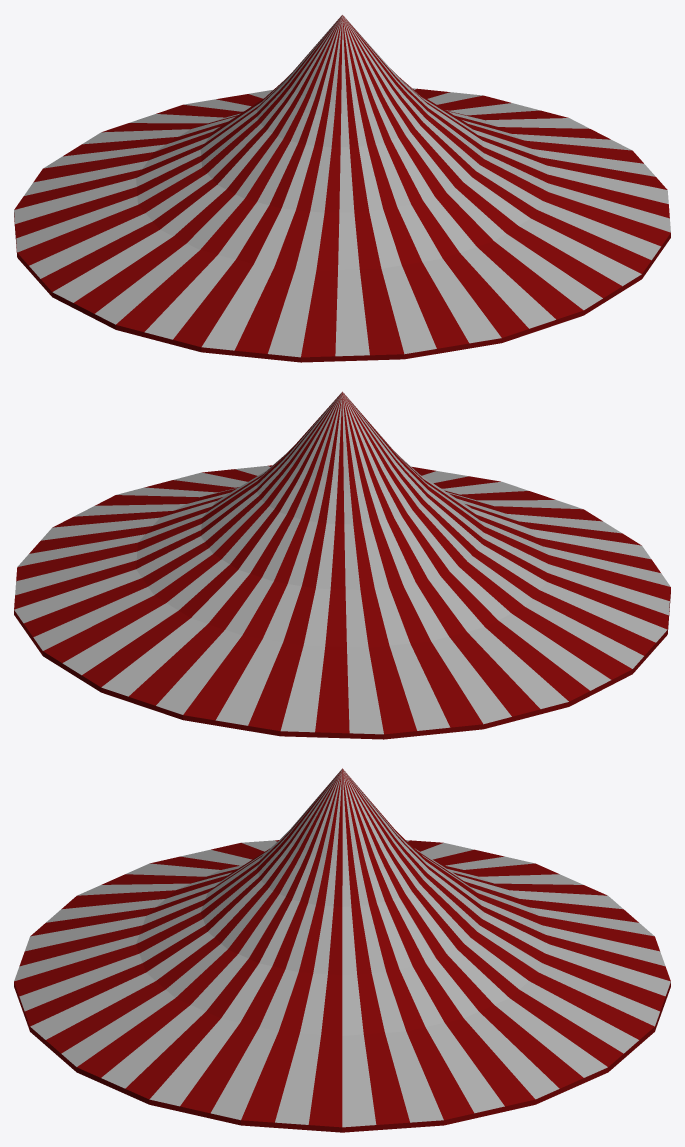
File: SEC-Tent-Top.fbx
The picture shows the model from 3 angles, top to bottom: view 1: azimuth 30°, elevation 25°; view 2: azimuth 150°, elevation 25°; view 3: azimuth 270°, elevation 25°; orthographic projection. The views are drawn at different scales.
Visible parts, largest first — view 1: pCone12; view 2: pCone12; view 3: pCone12.
Boxes of the visible parts, left/top/right/bottom form: pCone12: left=14, top=14, right=670, bottom=362; pCone12: left=14, top=391, right=670, bottom=739; pCone12: left=14, top=768, right=670, bottom=1132.
Size of the model in its own units: 51.86 by 18.1 by 49.35.
